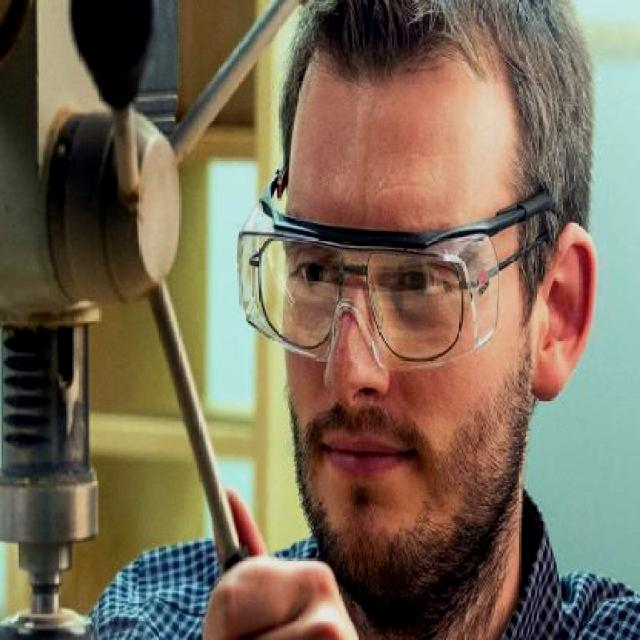face_nomask: (282, 217, 490, 500)
glasses: (234, 190, 566, 364), (247, 218, 478, 369)
head_nohelmet: (286, 0, 596, 120)
